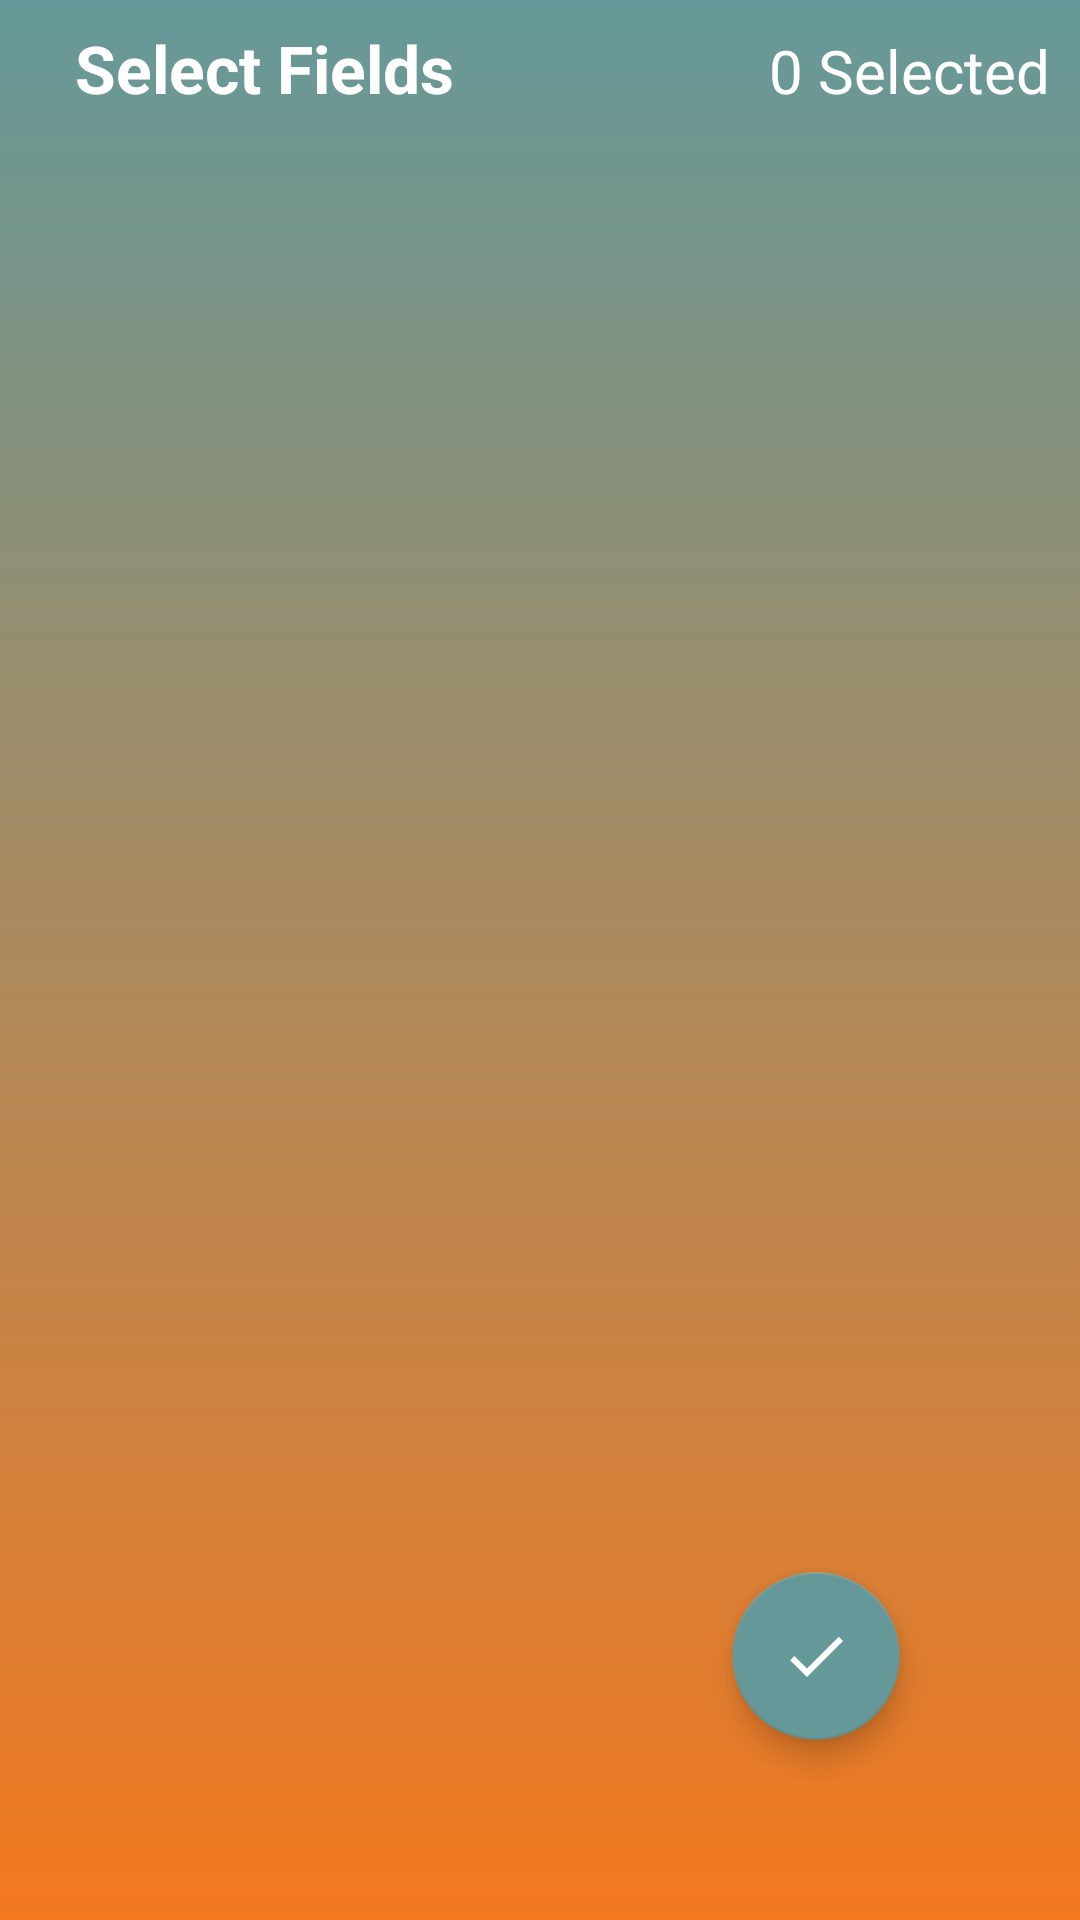

Screen size 1080*1920. Icon name, then its box in pixels as [x1=x1, y1=y1, x2=x2, y2=y2]:
done: [x1=732, y1=1572, x2=900, y2=1740]
